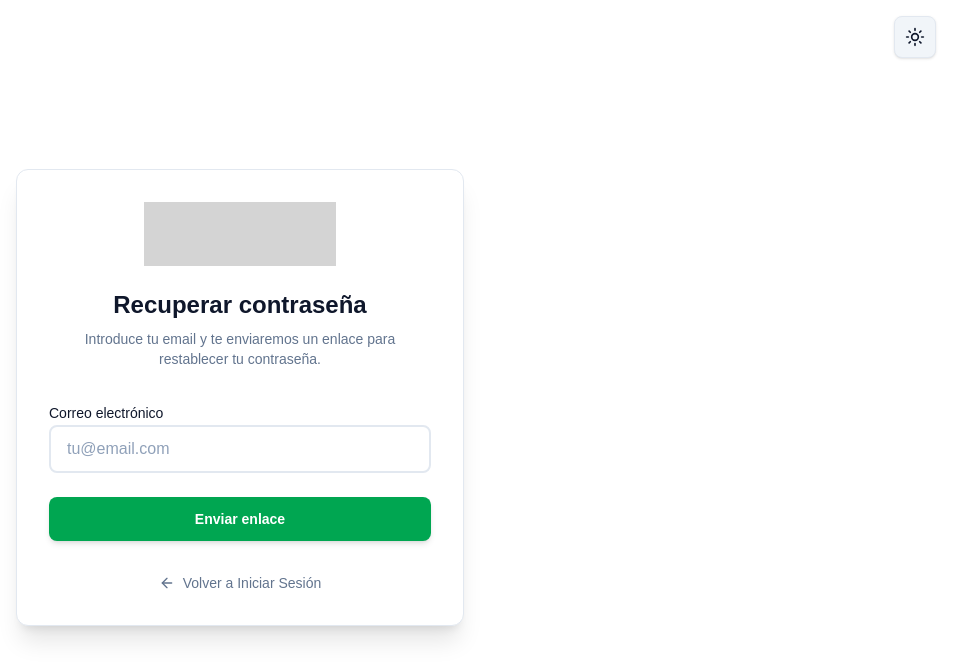
Test case: ForgotPasswordPage › valida que el formato del email sea correcto
This screenshot has width=953, height=672.
// Intentar enviar sin email
Click the button "Enviar enlace" at [240, 518], box top-left (49, 496), bottom-right (431, 540)
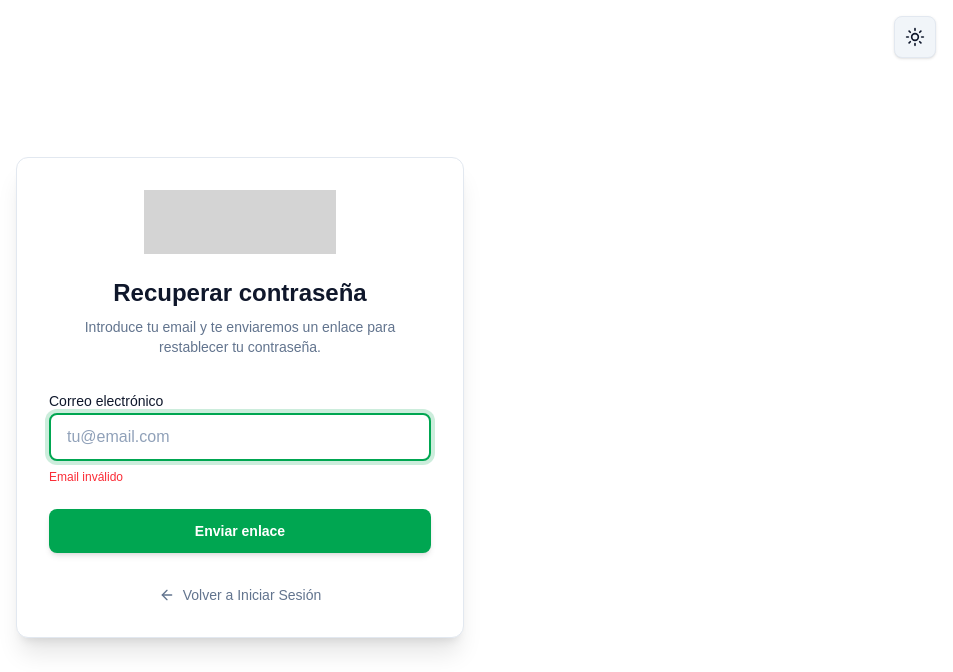
Now the text "Email inválido" is shown, box top-left (49, 470), bottom-right (123, 484)
